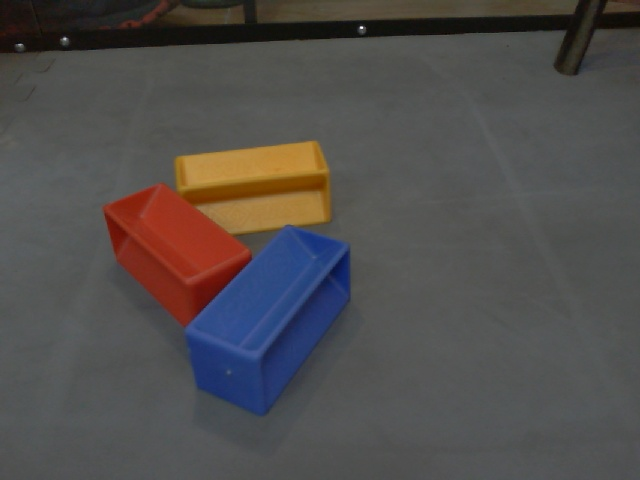BlueSample: (182, 222, 353, 419)
RedSample: (100, 182, 252, 330)
YellowSample: (172, 134, 332, 233)
